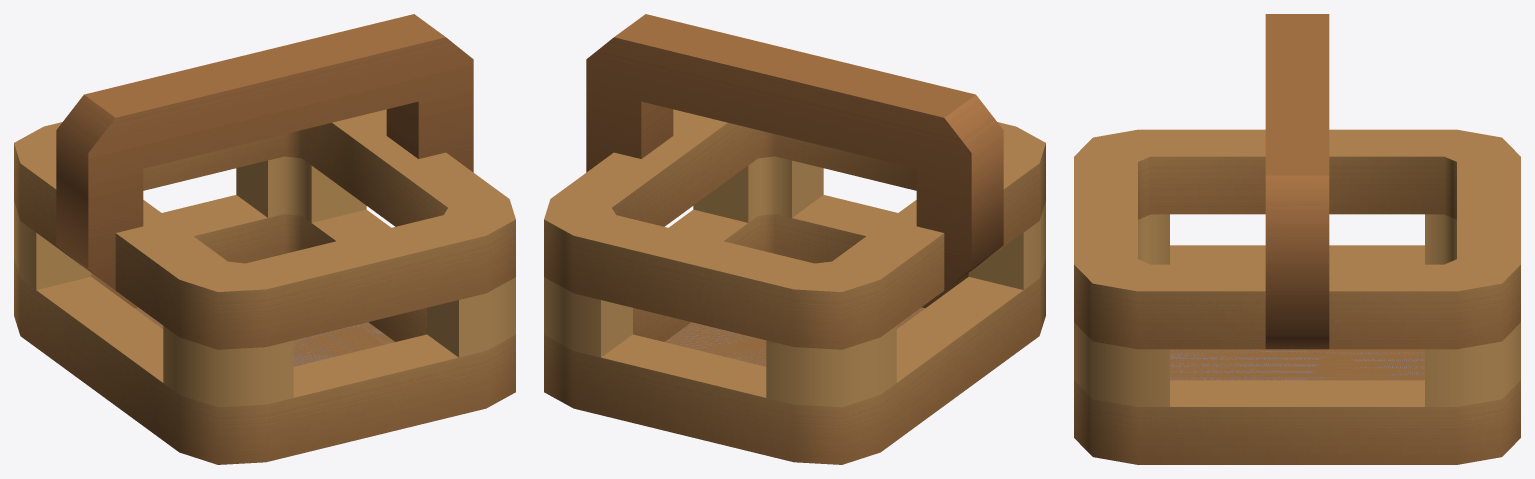
Rendered from big-basket-kenney.glb.
3 renders of one model, left to right at view 1: azimuth 30°, elevation 25°; view 2: azimuth 150°, elevation 25°; view 3: azimuth 270°, elevation 25°, orthographic.
Parts seen in each view (by area): view 1: shopping-basket; view 2: shopping-basket; view 3: shopping-basket.
Part boxes in pixels (x1,y1,x2,y2): shopping-basket: (14,14,515,464); shopping-basket: (544,14,1045,464); shopping-basket: (1074,14,1520,464).
Bounding box in the file's own units: 0.35 × 0.25 × 0.35.
1 material, 1 textured.
